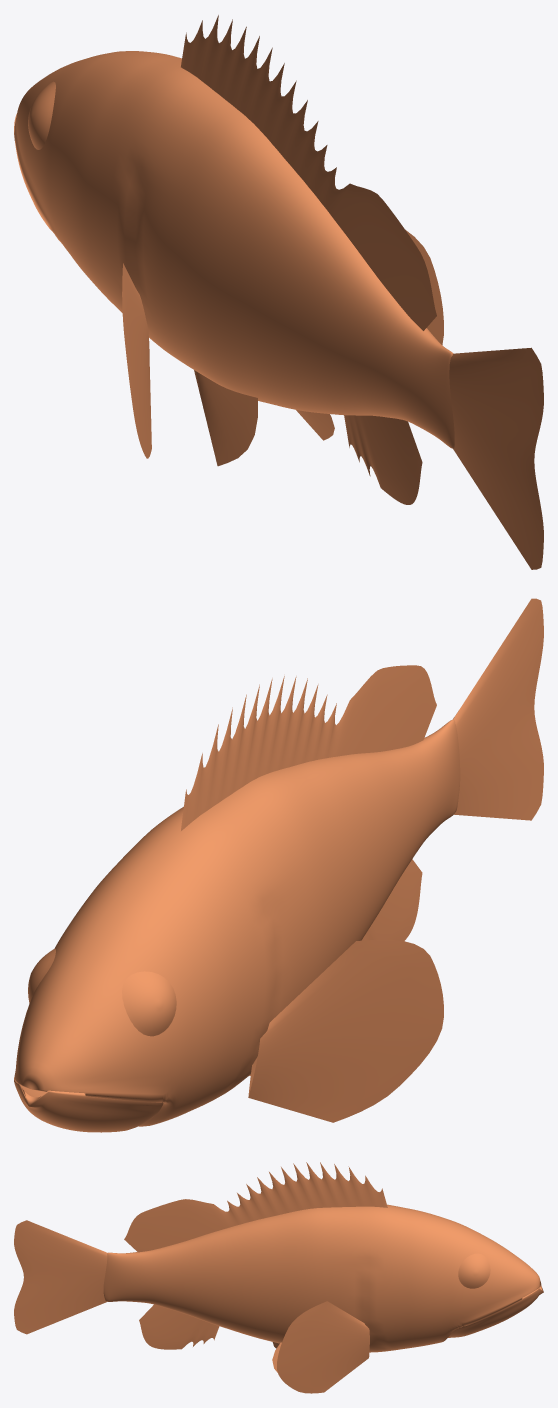
File: rockfish.glb
The picture shows the model from 3 angles, top to bottom: view 1: azimuth 30°, elevation 25°; view 2: azimuth 150°, elevation 25°; view 3: azimuth 270°, elevation 25°; orthographic projection. The views are drawn at different scales.
Parts seen in each view (by area): view 1: rockfish; view 2: rockfish; view 3: rockfish.
Part boxes in pixels (bbox=[...]): rockfish: bbox=[14, 15, 543, 569]; rockfish: bbox=[14, 598, 543, 1132]; rockfish: bbox=[14, 1162, 543, 1393].
Size of the model in its own units: 0.1776 by 0.2228 by 0.5059.
